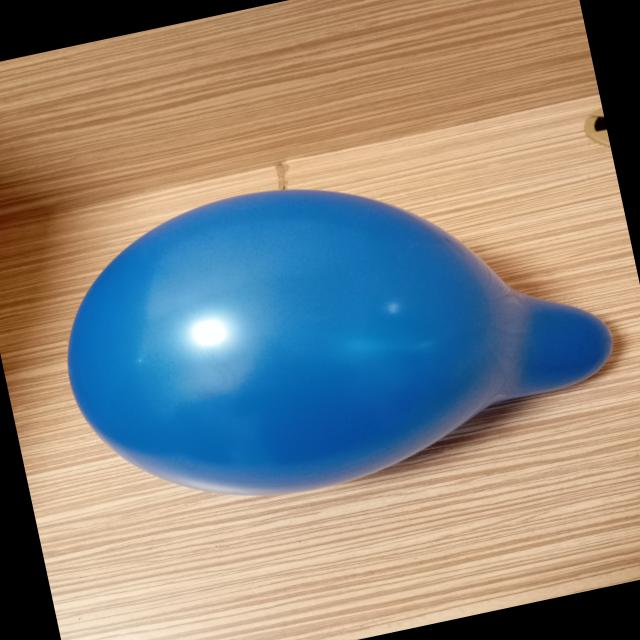balloon: (68, 189, 612, 495)
